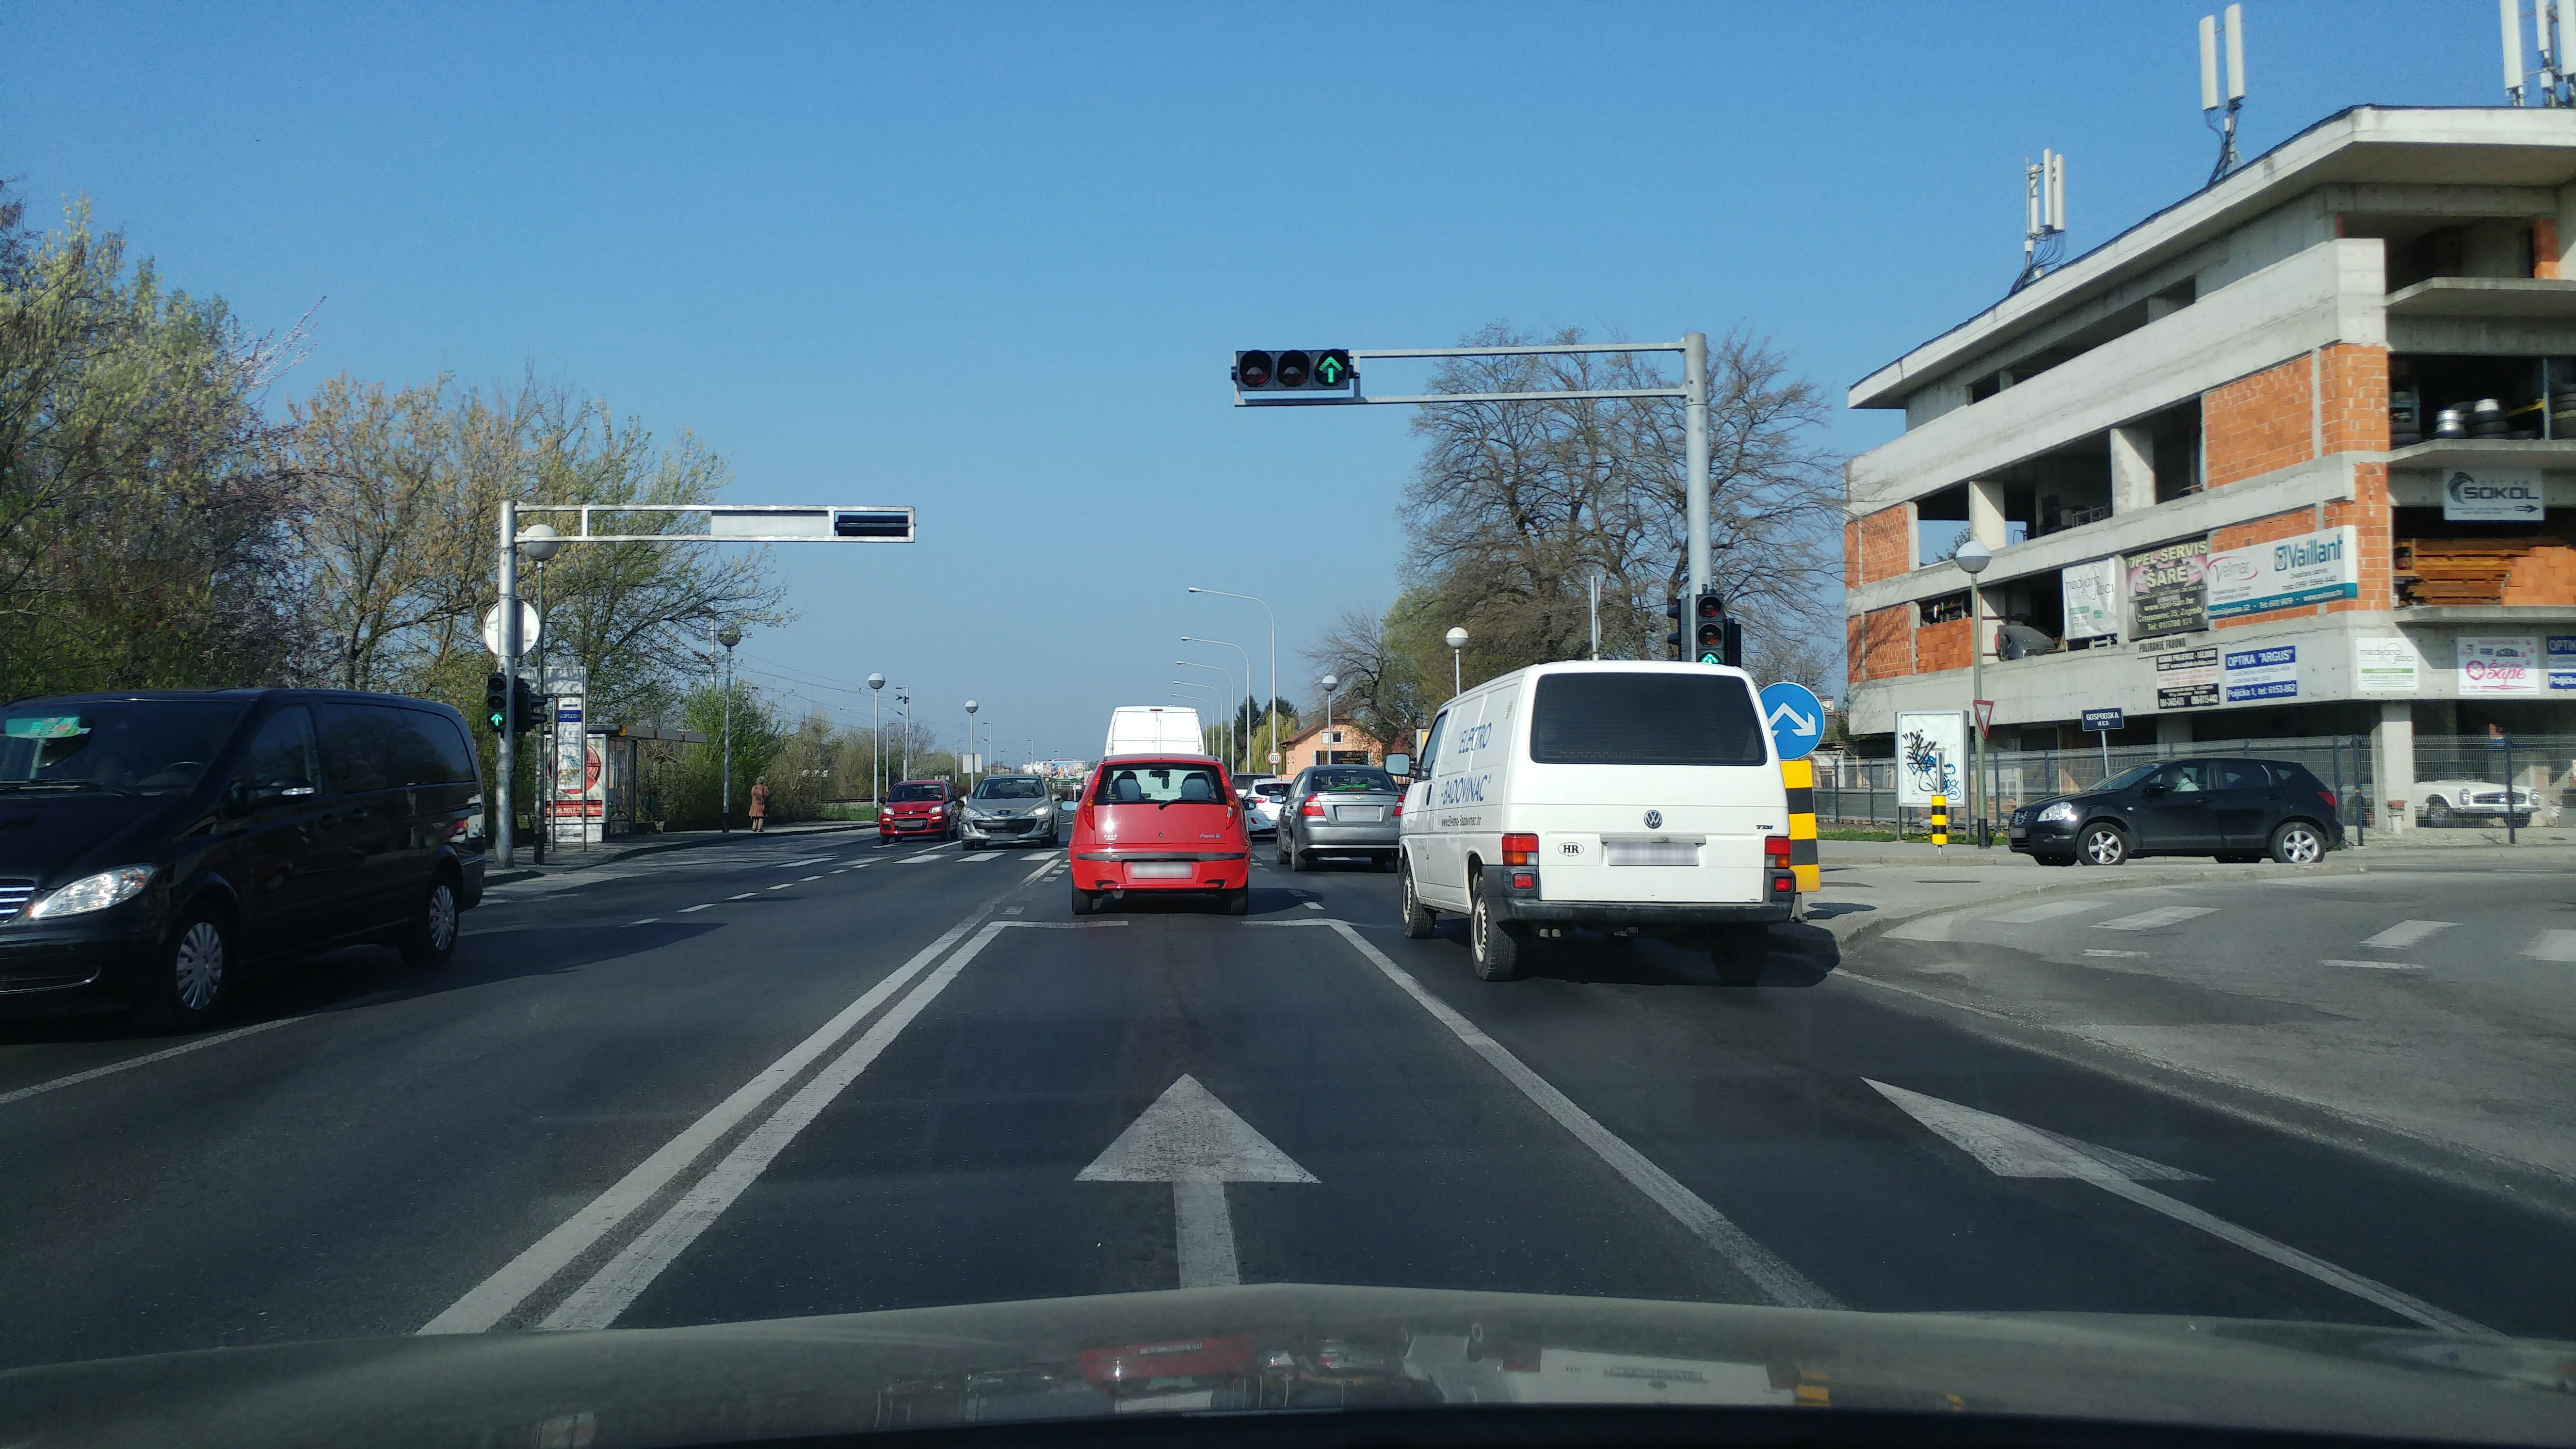vinyl banner: (2197, 538, 2380, 605), (2123, 541, 2217, 653), (2143, 653, 2242, 724), (2442, 460, 2549, 524), (2047, 563, 2130, 644), (2226, 637, 2318, 701)
